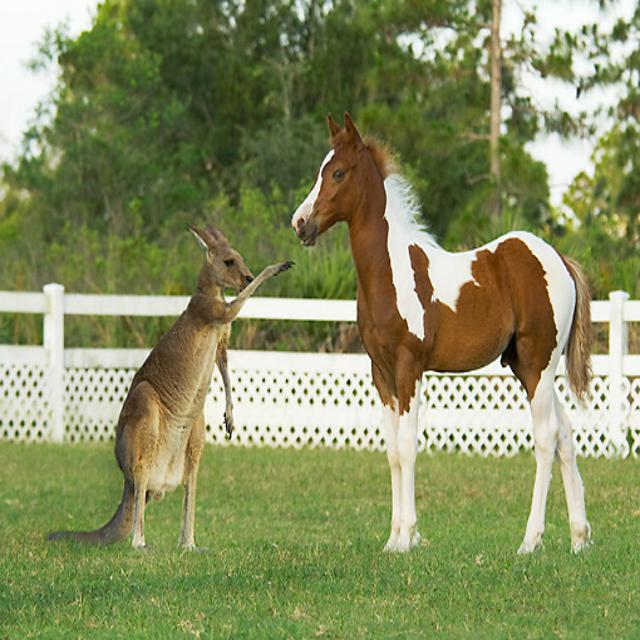kangaroo: (39, 230, 297, 545)
